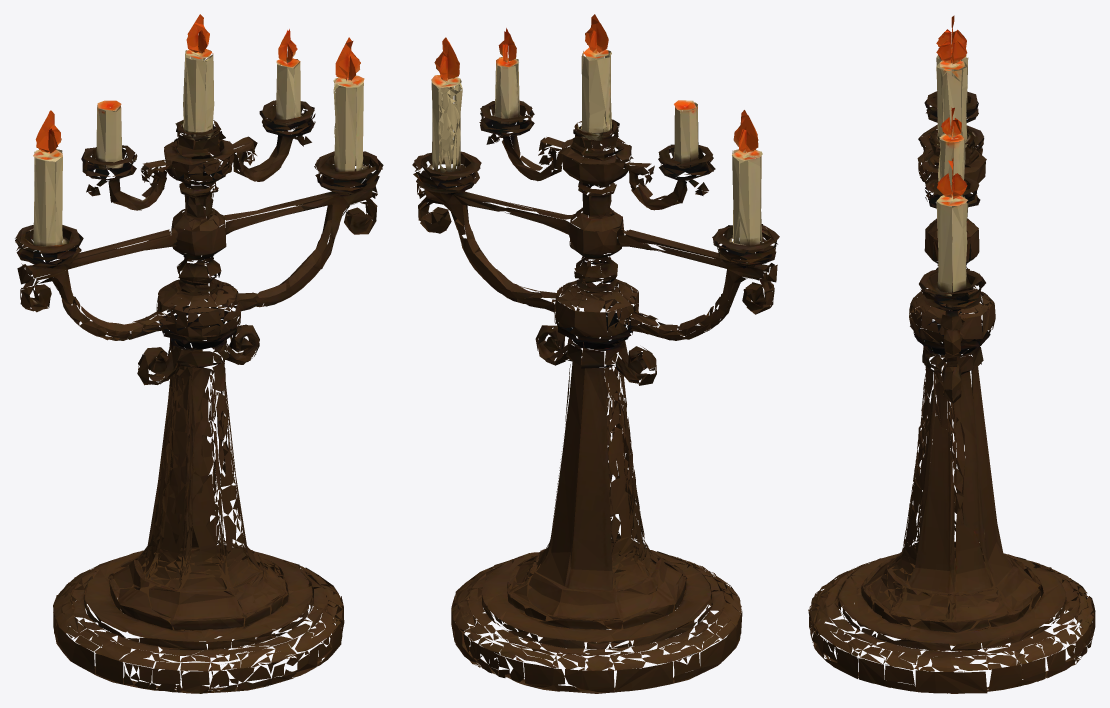
File: candelabra.glb
The picture shows the model from 3 angles, left to right: view 1: azimuth 30°, elevation 25°; view 2: azimuth 150°, elevation 25°; view 3: azimuth 270°, elevation 25°; orthographic projection.
Visible parts, largest first — view 1: material; view 2: material; view 3: material.
Part boxes in pixels (x1,y1,x2,y2): material: (15,14,383,693); material: (412,14,779,693); material: (808,15,1095,693).
Bounding box in the file's own units: 0.5565 × 0.9198 × 0.3919.
Materials: 1 (1 with a texture image).
